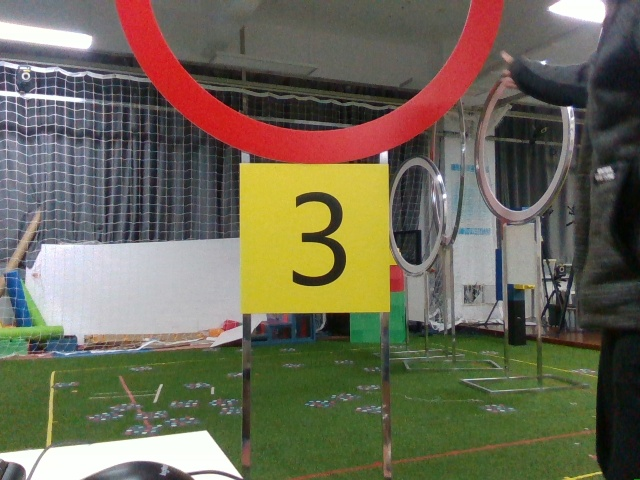target: (242, 164, 383, 312)
